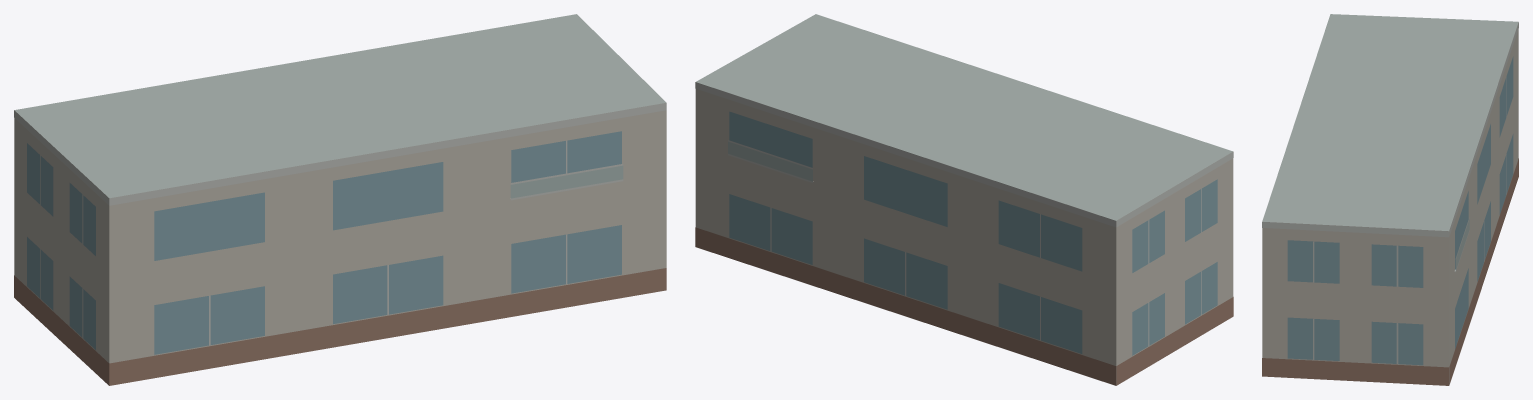
Rendered from survey-upis-32929854.glb.
3 renders of one model, left to right at view 1: azimuth 30°, elevation 25°; view 2: azimuth 150°, elevation 25°; view 3: azimuth 270°, elevation 25°, orthographic. The views are drawn at different scales.
Visible parts, largest first — view 1: survey-upis-32929854.tmp; view 2: survey-upis-32929854.tmp; view 3: survey-upis-32929854.tmp.
Part boxes in pixels (x1=…): survey-upis-32929854.tmp: x1=14, y1=14, x2=666, y2=385; survey-upis-32929854.tmp: x1=695, y1=14, x2=1233, y2=385; survey-upis-32929854.tmp: x1=1262, y1=14, x2=1518, y2=385.
Size of the model in its own units: 18.37 by 6.1 by 9.18.
